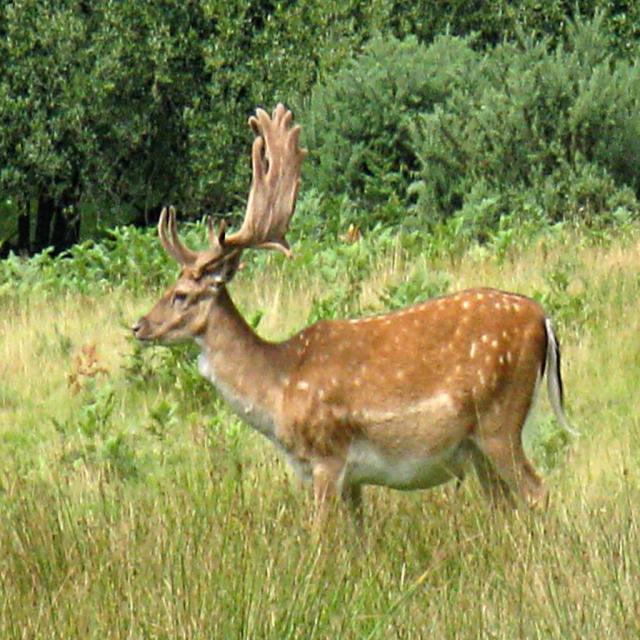Deer: (131, 101, 581, 532)
